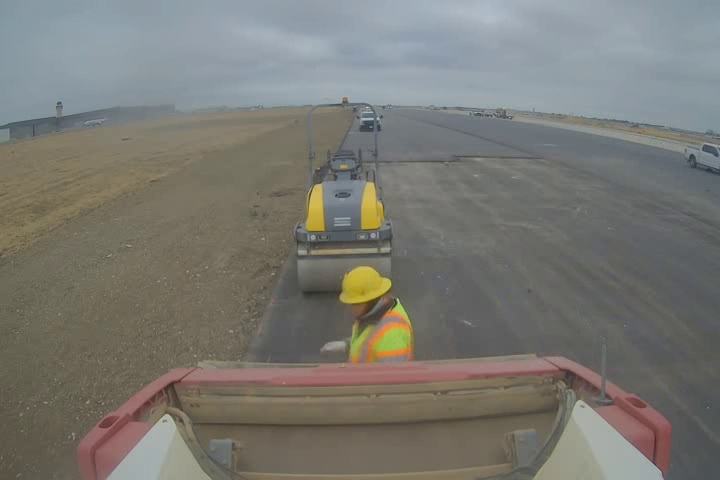person: (316, 259, 418, 369)
vehicle: (72, 351, 671, 480), (293, 102, 394, 293), (679, 137, 720, 176), (351, 108, 385, 130)
vest: (340, 300, 414, 365)
yellow_helmet: (334, 261, 394, 323)
